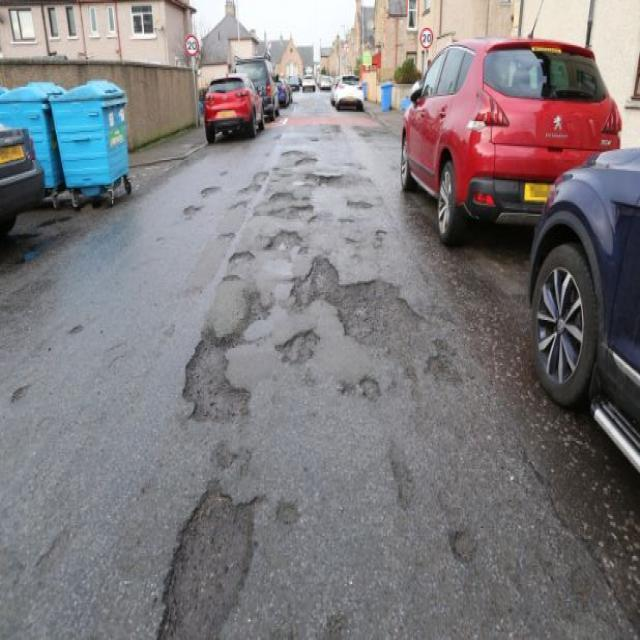pothole: (288, 248, 427, 392), (146, 483, 259, 637), (180, 318, 254, 432), (274, 318, 319, 373), (261, 184, 314, 226), (262, 226, 306, 256)
